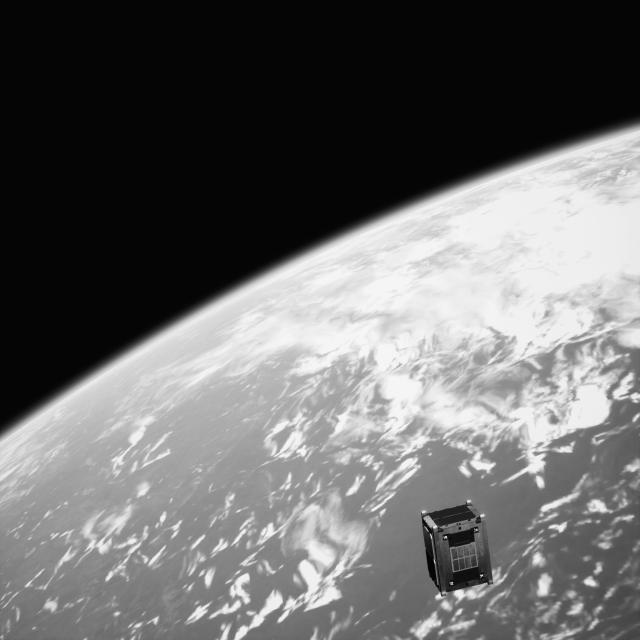medium_debris: (414, 496, 494, 592)
